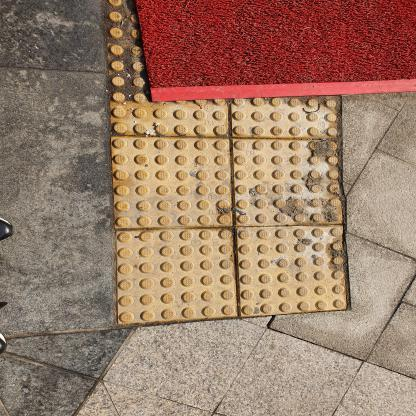podotacti: (85, 0, 360, 330)
